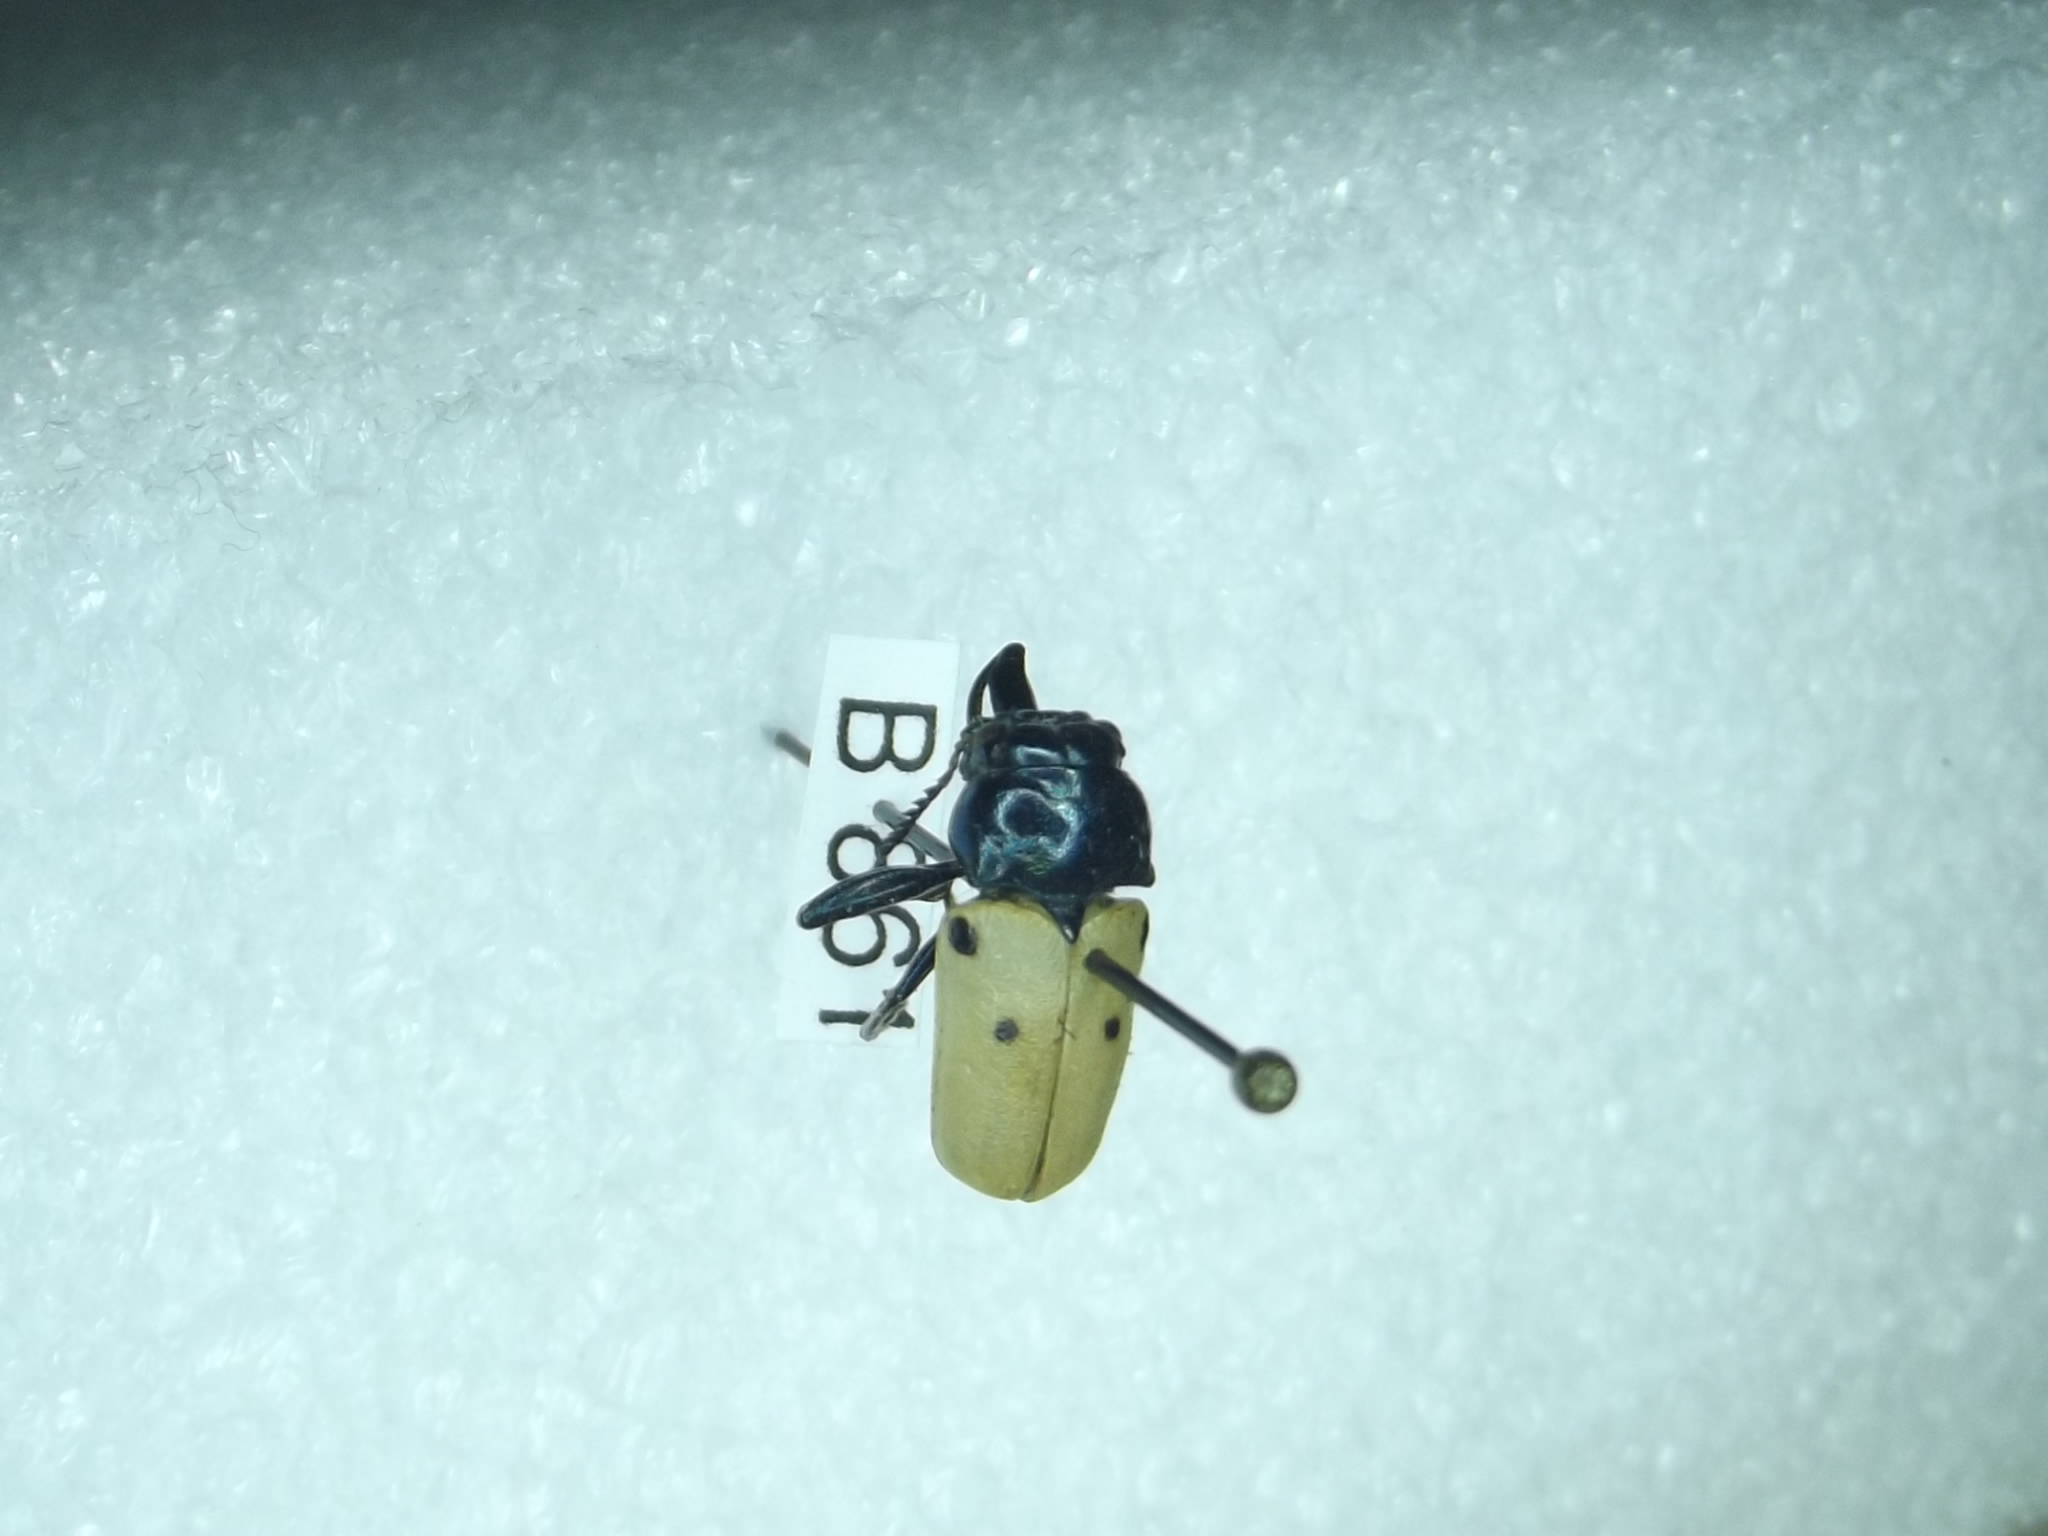Labidostomis_maculipennis: (790, 634, 1176, 1220)
